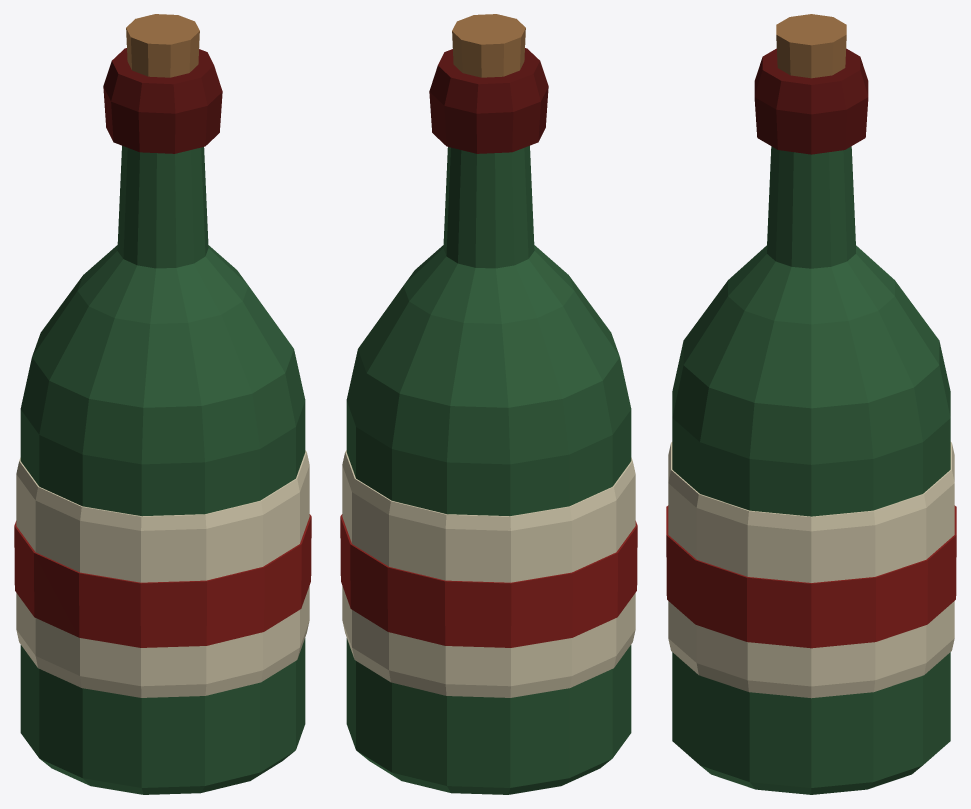
File: bottle.obj
3 views of the same model, side by side, from view 1: azimuth 30°, elevation 25°; view 2: azimuth 150°, elevation 25°; view 3: azimuth 270°, elevation 25° (orthographic).
Visible parts, largest first — view 1: lathe, lathe.003, lathe.004, lathe.005, lathe.002; view 2: lathe, lathe.003, lathe.004, lathe.005, lathe.002; view 3: lathe, lathe.003, lathe.004, lathe.005, lathe.002.
Part boxes in pixels (left/top/right/bottom): lathe: left=20, top=145, right=305, bottom=794; lathe.003: left=16, top=450, right=309, bottom=697; lathe.004: left=14, top=514, right=311, bottom=647; lathe.005: left=103, top=48, right=222, bottom=153; lathe.002: left=126, top=14, right=199, bottom=77; lathe: left=346, top=145, right=631, bottom=794; lathe.003: left=342, top=450, right=635, bottom=697; lathe.004: left=340, top=514, right=637, bottom=647; lathe.005: left=429, top=48, right=548, bottom=153; lathe.002: left=452, top=14, right=525, bottom=77; lathe: left=672, top=146, right=950, bottom=794; lathe.003: left=668, top=442, right=954, bottom=698; lathe.004: left=666, top=505, right=956, bottom=648; lathe.005: left=754, top=48, right=868, bottom=154; lathe.002: left=776, top=14, right=846, bottom=78.
Size of the model in its own units: 0.1044 by 0.275 by 0.1018.
